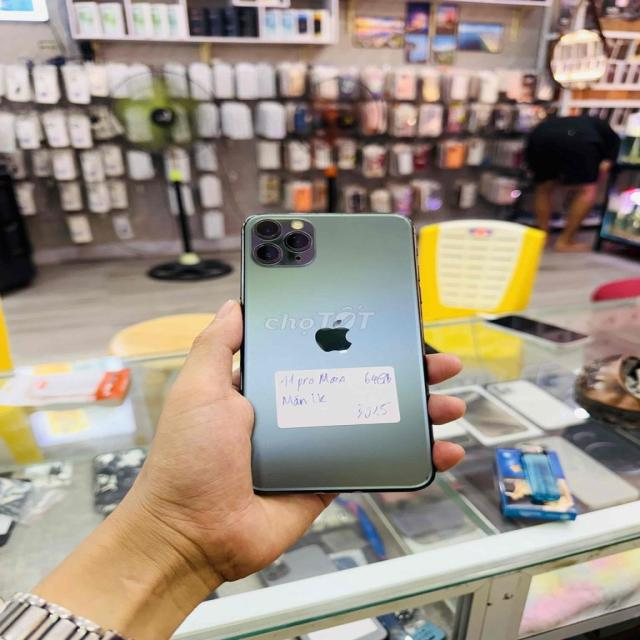gen_11: (242, 214, 434, 494)
